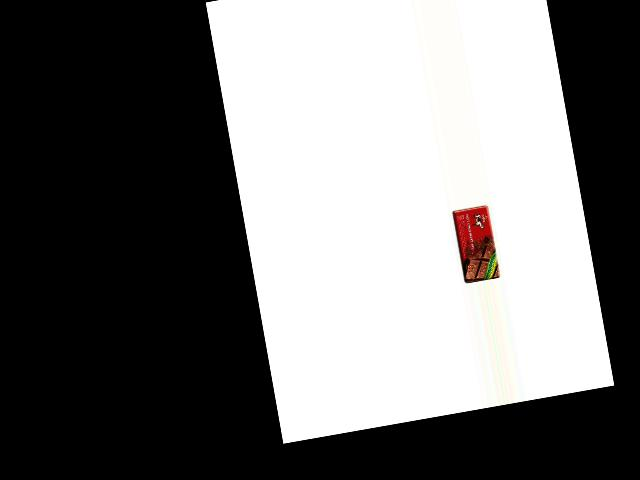chocolate: (450, 203, 501, 284)
